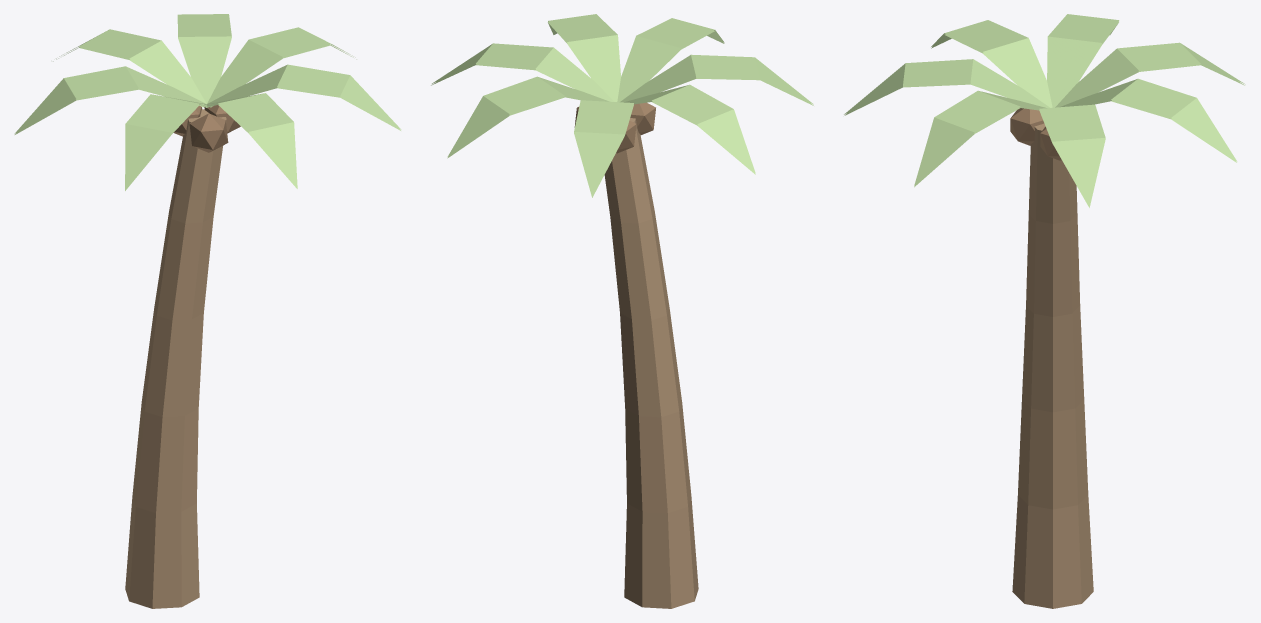
Rendered from Palm.fbx.
3 views of the same model, side by side, from view 1: azimuth 30°, elevation 25°; view 2: azimuth 150°, elevation 25°; view 3: azimuth 270°, elevation 25° (orthographic). The views are drawn at different scales.
Visible parts, largest first — view 1: Palm_Model; view 2: Palm_Model; view 3: Palm_Model.
Part boxes in pixels (x1,y1,x2,y2): Palm_Model: [14, 14, 401, 608]; Palm_Model: [431, 14, 813, 608]; Palm_Model: [844, 14, 1245, 608].
Size of the model in its own units: 3.02 by 4.41 by 2.98.
